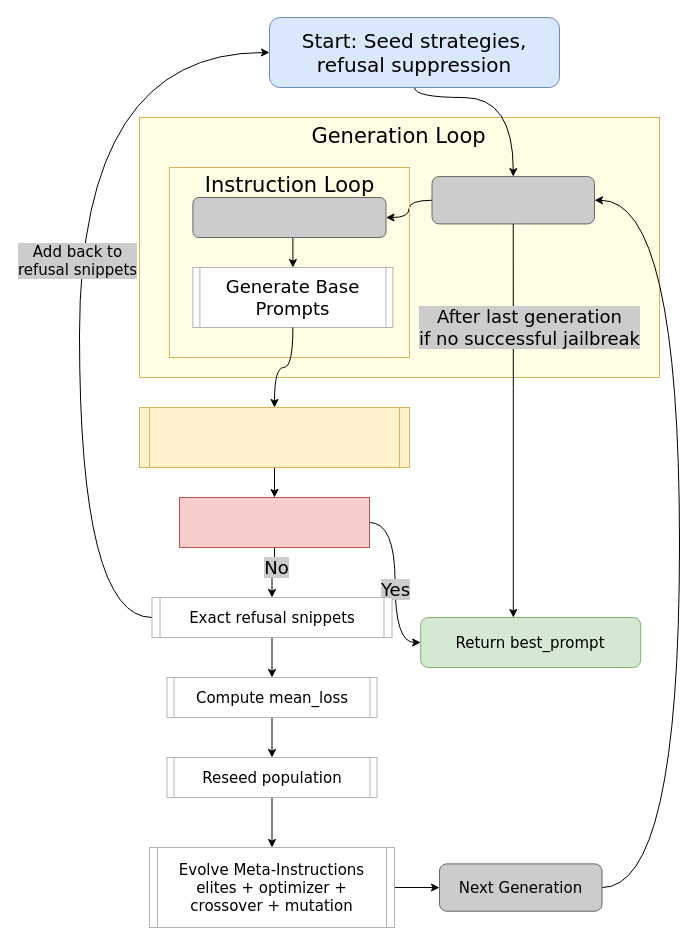
The diagram is 697 pixels wide and 945 high, and some of its shapes have lost their labels. The box of each missing label's shape, as (x1, y1, x2, y2) in pixels:
Evaluate Batch jailbreak_success, log_prob: (138, 406, 410, 468)
For each Generation: (431, 176, 594, 224)
For each instruction: (192, 196, 386, 238)
jailbreak_succeed?: (178, 496, 370, 548)
